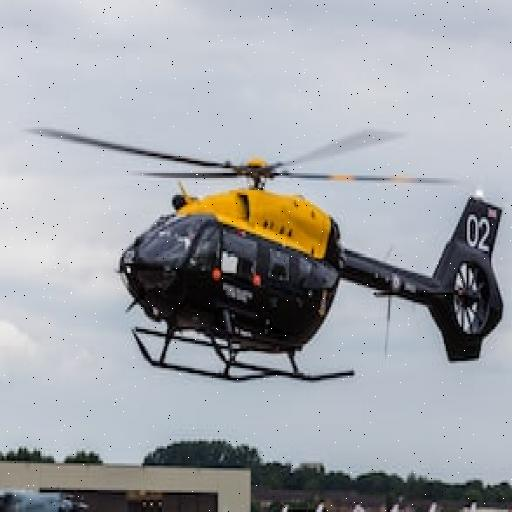helicopter: (27, 120, 512, 384)
